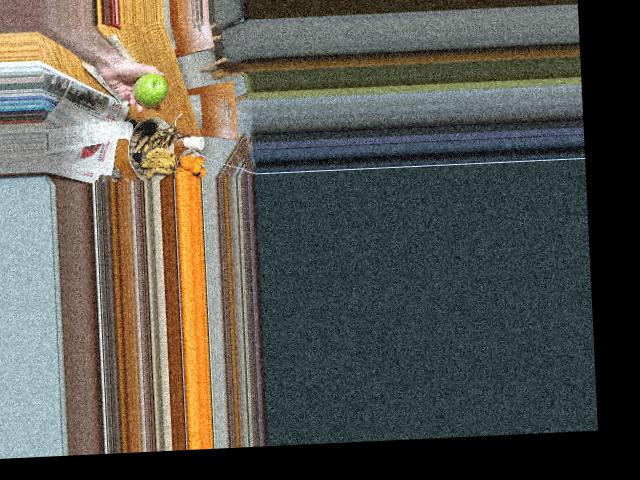apple: (131, 72, 169, 109)
